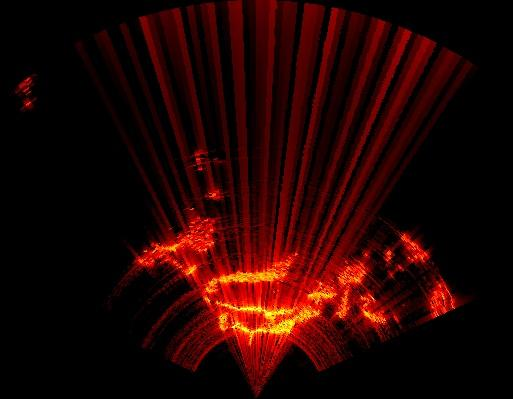shipwreck: (216, 283, 337, 342), (136, 220, 213, 274), (204, 260, 289, 302), (336, 265, 365, 317), (363, 294, 385, 322)
